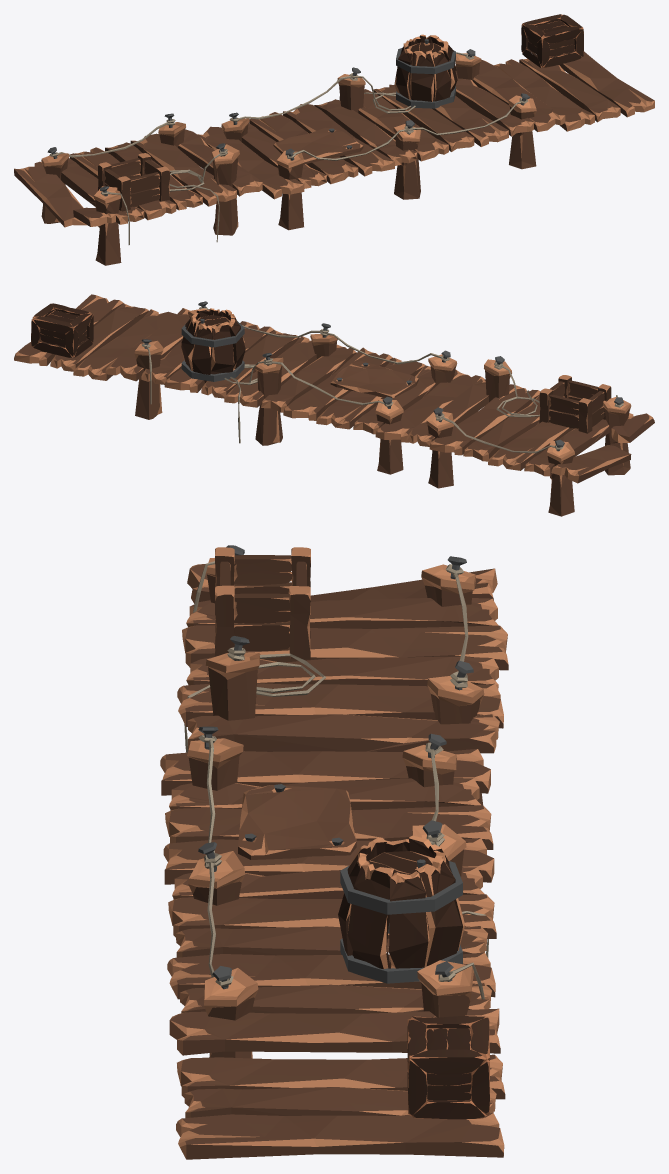
Rendered from WoodsWater.fbx.
3 renders of one model, top to bottom at view 1: azimuth 30°, elevation 25°; view 2: azimuth 150°, elevation 25°; view 3: azimuth 270°, elevation 25°, orthographic. The views are drawn at different scales.
Visible parts, largest first — view 1: WoodsWater; view 2: WoodsWater; view 3: WoodsWater.
Boxes of the visible parts, <box> form: WoodsWater: <box>14,14,654,265</box>; WoodsWater: <box>14,294,654,516</box>; WoodsWater: <box>160,545,508,1159</box>.
Bounding box in the file's own units: 546 × 94.38 × 146.
